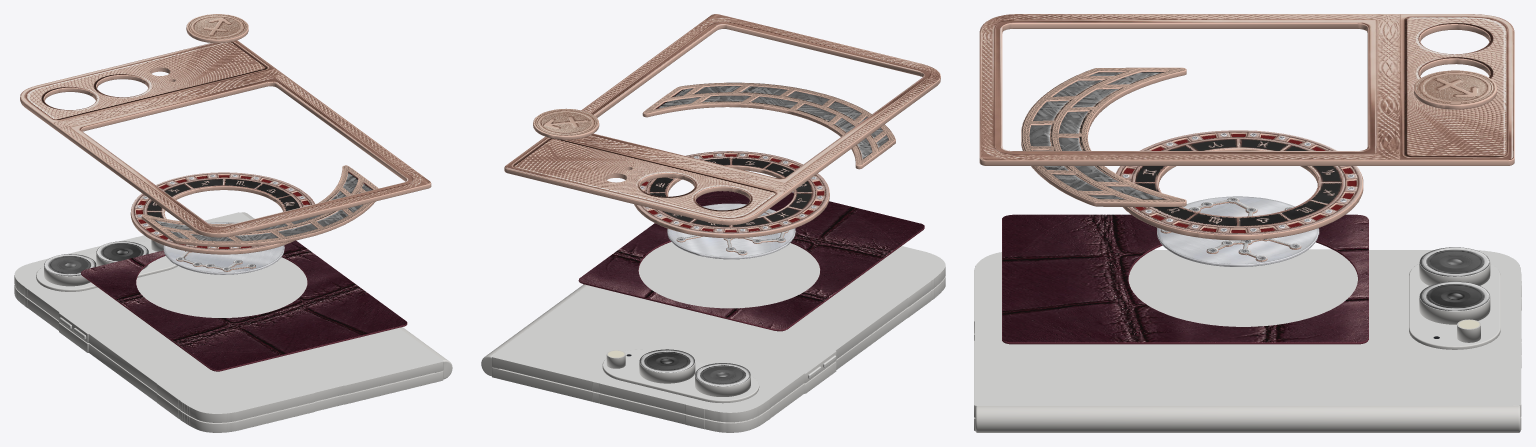
Rendered from anatomy.glb.
The picture shows the model from 3 angles, left to right: view 1: azimuth 30°, elevation 25°; view 2: azimuth 150°, elevation 25°; view 3: azimuth 270°, elevation 25°; orthographic projection. The views are drawn at different scales.
Parts seen in each view (by area): view 1: base_starwhite, frame_rose, plate_croc_burgundy, ring_rose, panel_frame_rose, core_white, panel_fill_meteorite, medal_sagittarius_rose, ring_enamel; view 2: base_starwhite, frame_rose, plate_croc_burgundy, ring_rose, panel_frame_rose, panel_fill_meteorite, core_white, medal_sagittarius_rose, ring_enamel, const_sagittarius; view 3: base_starwhite, frame_rose, plate_croc_burgundy, ring_rose, panel_frame_rose, core_white, panel_fill_meteorite, medal_sagittarius_rose, const_sagittarius, ring_enamel.
Boxes of the visible parts, box(x1,y1,x2,y2) form: base_starwhite: box(14, 212, 452, 432); frame_rose: box(20, 40, 431, 237); plate_croc_burgundy: box(81, 240, 407, 371); ring_rose: box(130, 172, 314, 254); panel_frame_rose: box(141, 165, 378, 246); core_white: box(163, 222, 284, 274); panel_fill_meteorite: box(154, 171, 372, 241); medal_sagittarius_rose: box(186, 14, 248, 43); ring_enamel: box(136, 175, 309, 248); base_starwhite: box(481, 242, 945, 432); frame_rose: box(504, 14, 940, 225); plate_croc_burgundy: box(578, 191, 924, 331); ring_rose: box(634, 151, 829, 238); panel_frame_rose: box(642, 82, 895, 169); panel_fill_meteorite: box(656, 86, 888, 159); core_white: box(667, 203, 795, 259); medal_sagittarius_rose: box(533, 108, 599, 139); ring_enamel: box(641, 154, 824, 232); const_sagittarius: box(676, 211, 788, 255); base_starwhite: box(974, 247, 1521, 432); frame_rose: box(979, 14, 1514, 165); plate_croc_burgundy: box(1002, 214, 1368, 344); ring_rose: box(1116, 130, 1363, 240); panel_frame_rose: box(1021, 67, 1186, 206); core_white: box(1157, 196, 1319, 266); panel_fill_meteorite: box(1029, 72, 1166, 199); medal_sagittarius_rose: box(1414, 70, 1496, 109); const_sagittarius: box(1160, 197, 1301, 261); ring_enamel: box(1123, 134, 1356, 232).
Bounding box in the file's own units: 1.1 × 0.98 × 1.55.
Materials: 22 (11 with a texture image).
